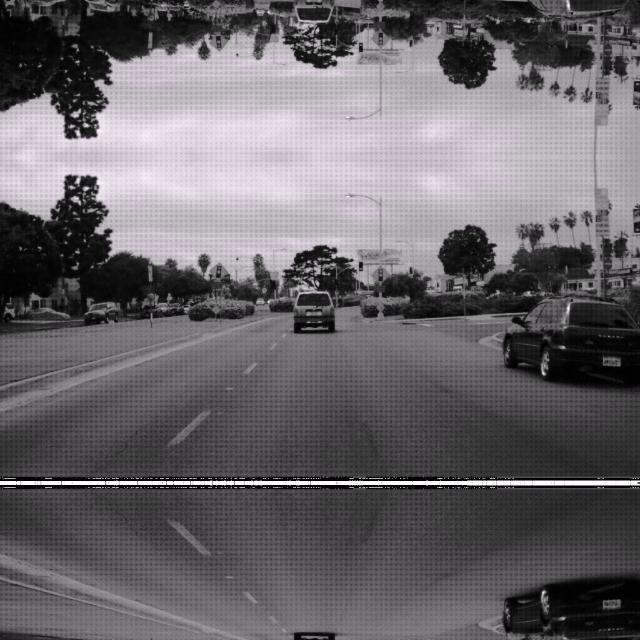signalAhead: (370, 262, 390, 284), (370, 28, 390, 50), (208, 260, 228, 280), (208, 32, 228, 52)
